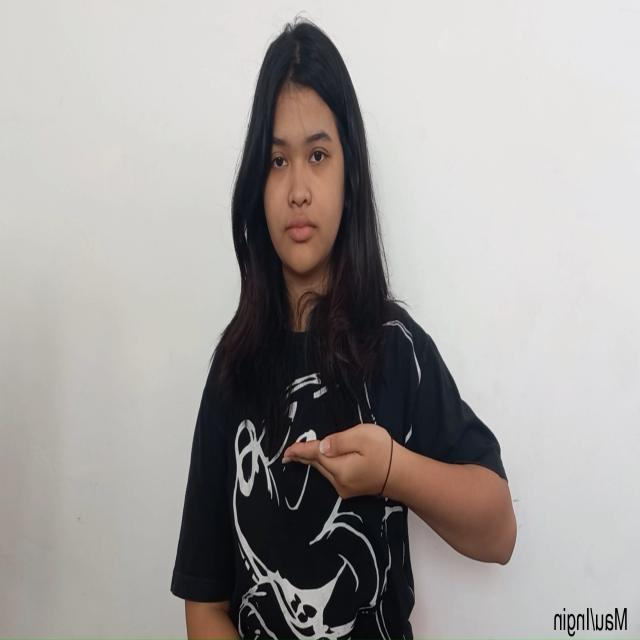Mau-Ingin -BISINDO-: (278, 418, 392, 508)
